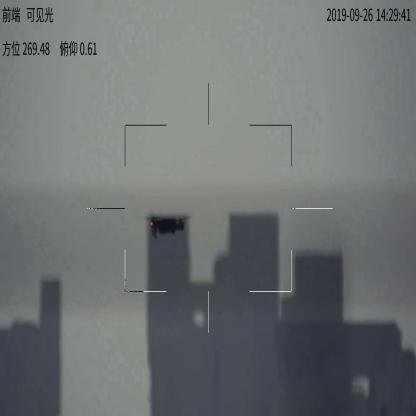uav: (145, 211, 199, 240)
